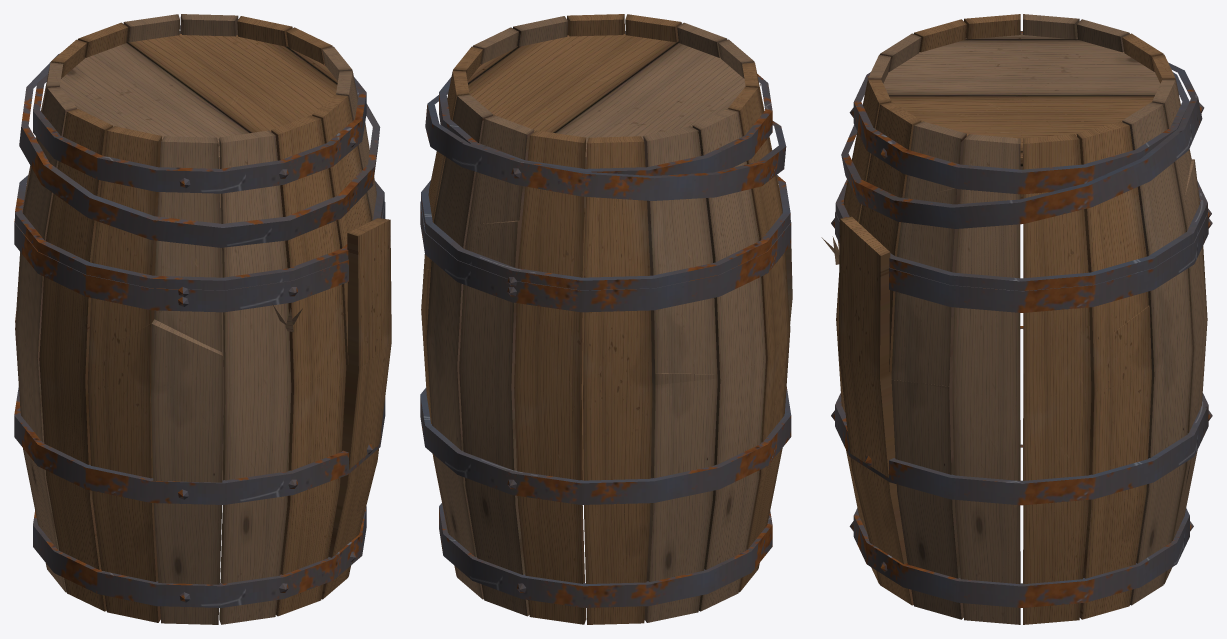
The model's file is Wooden_Barrel.glb.
3 views of the same model, side by side, from view 1: azimuth 30°, elevation 25°; view 2: azimuth 150°, elevation 25°; view 3: azimuth 270°, elevation 25° (orthographic).
Parts seen in each view (by area): view 1: Intact, Damaged, Piece_2, Piece_4, Piece_5, Piece_3, Piece_0; view 2: Intact, Damaged, Piece_1, Piece_5, Piece_4, Piece_0, Piece_2; view 3: Intact, Damaged, Piece_3, Piece_0, Piece_4.
Part boxes in pixels (box(x1,y1,x2,y2)): Intact: box(14, 14, 385, 624); Damaged: box(15, 25, 391, 624); Piece_2: box(39, 257, 151, 549); Piece_4: box(153, 443, 379, 504); Piece_5: box(25, 189, 348, 312); Piece_3: box(276, 58, 335, 616); Piece_0: box(123, 15, 332, 48); Intact: box(420, 14, 791, 624); Damaged: box(421, 90, 792, 324); Piece_1: box(514, 303, 717, 510); Piece_5: box(426, 233, 578, 310); Piece_4: box(425, 424, 577, 503); Piece_0: box(421, 47, 529, 616); Piece_2: box(679, 22, 789, 592); Intact: box(831, 14, 1212, 624); Damaged: box(821, 62, 1211, 605); Piece_3: box(891, 138, 1020, 621); Piece_0: box(1090, 305, 1151, 391); Piece_4: box(831, 394, 1207, 480).
Size of the model in its own units: 0.704 by 1 by 0.7382.
Materials: 2 (2 with a texture image).
